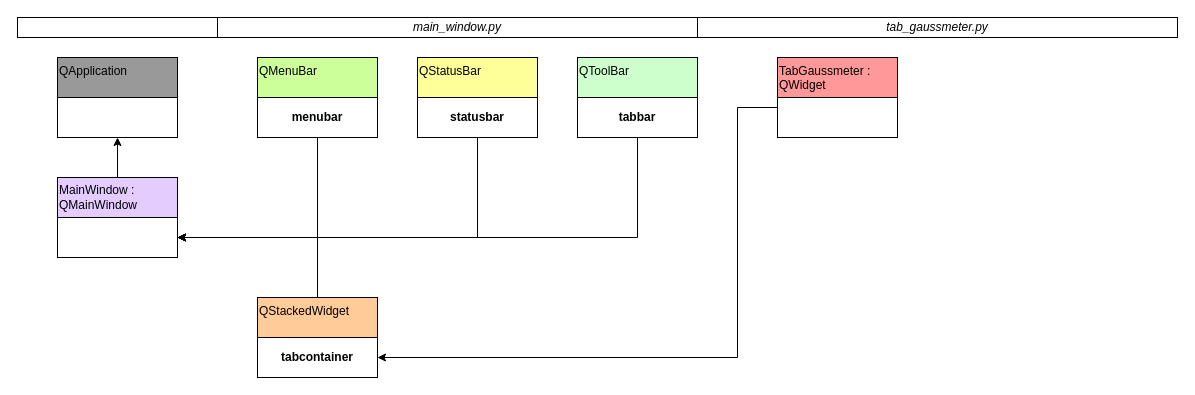
Some shapes in this 1195 by 395 pixel diagram are drawn without their labels. Here are the shapes that lost their labels. From the top down, the centre of each, then its label:
At (117,27): "__main__.py".
At (117,117): "app".
At (837,117): "tab_gaussmeter".
At (117,237): "window".
